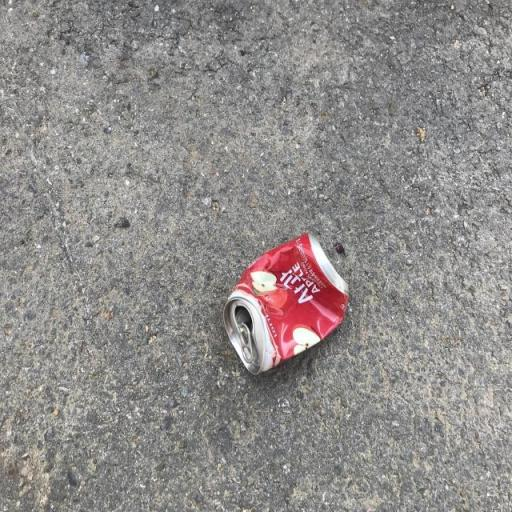metal: (212, 212, 370, 406)
